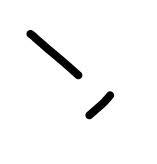b: (14, 17, 89, 93)
i: (80, 87, 123, 126)
